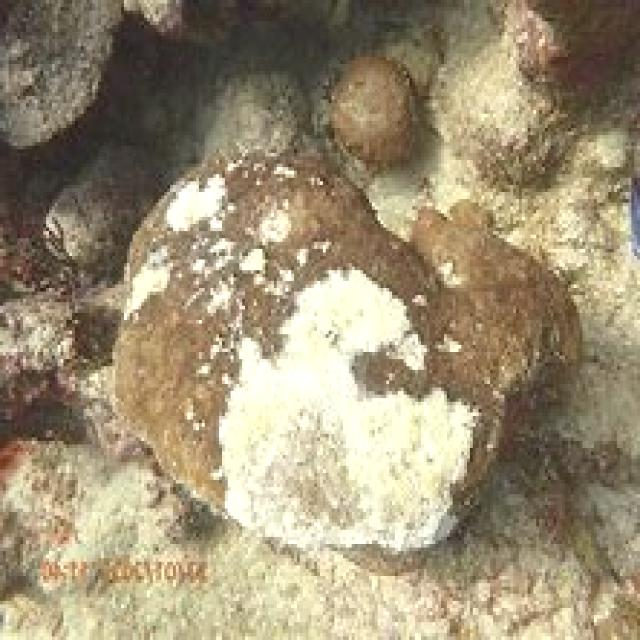Coral: (111, 147, 584, 556)
